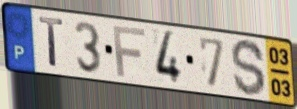3: (73, 21, 104, 76)
4: (153, 28, 184, 88)
7: (198, 35, 225, 90)
F: (111, 25, 147, 80)
S: (230, 37, 268, 98)
T: (37, 14, 66, 71)
